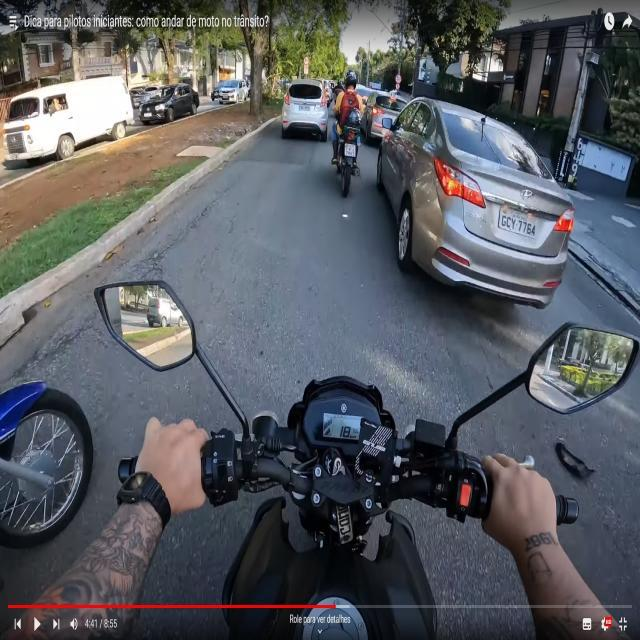Placa_mercosul_carro: (497, 206, 539, 240), (299, 105, 312, 112)
placa_moto: (344, 142, 356, 158)
